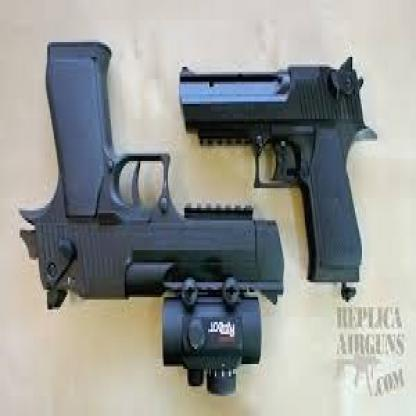Pistol: (17, 35, 286, 396), (175, 49, 376, 280)
